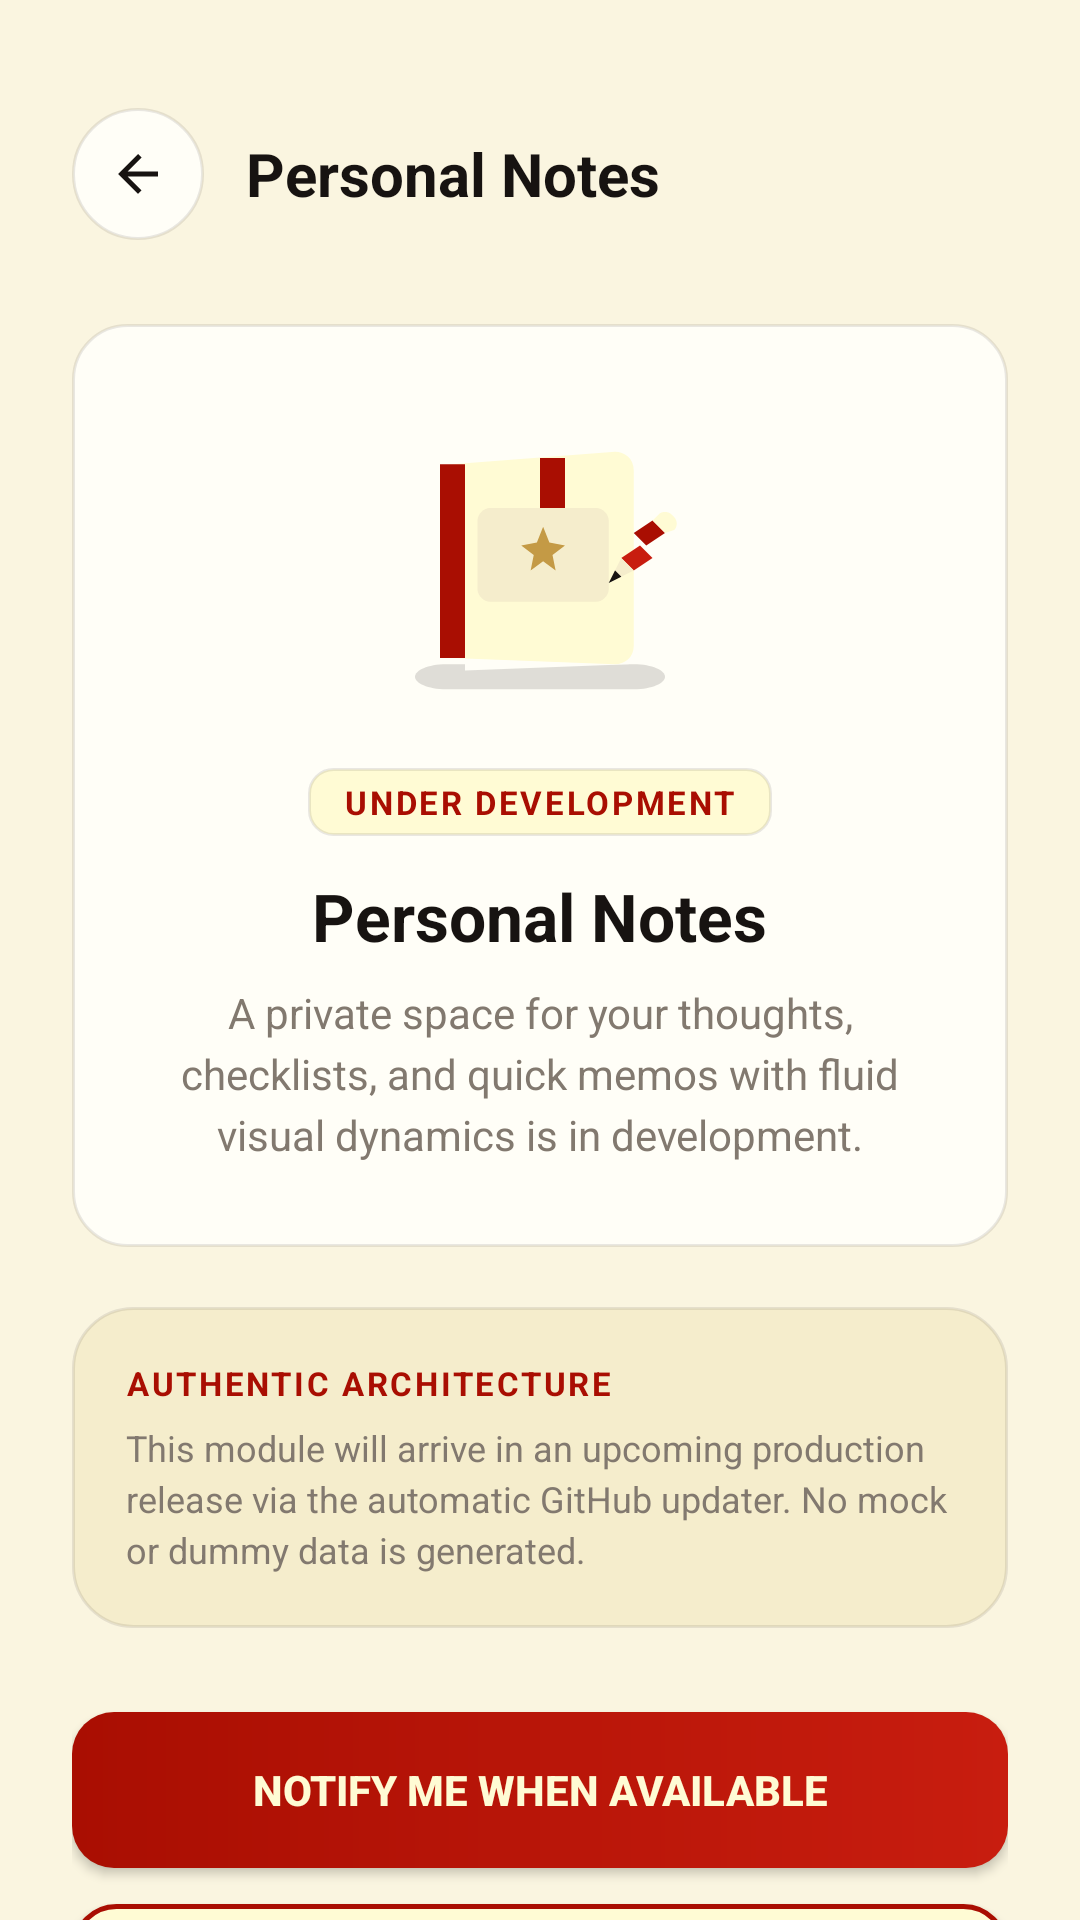

Icons on this 1080×1920 Android screen, each with the point to tap as (x,y):
Back: (138,174)
Coming soon illustration: (546,570)
